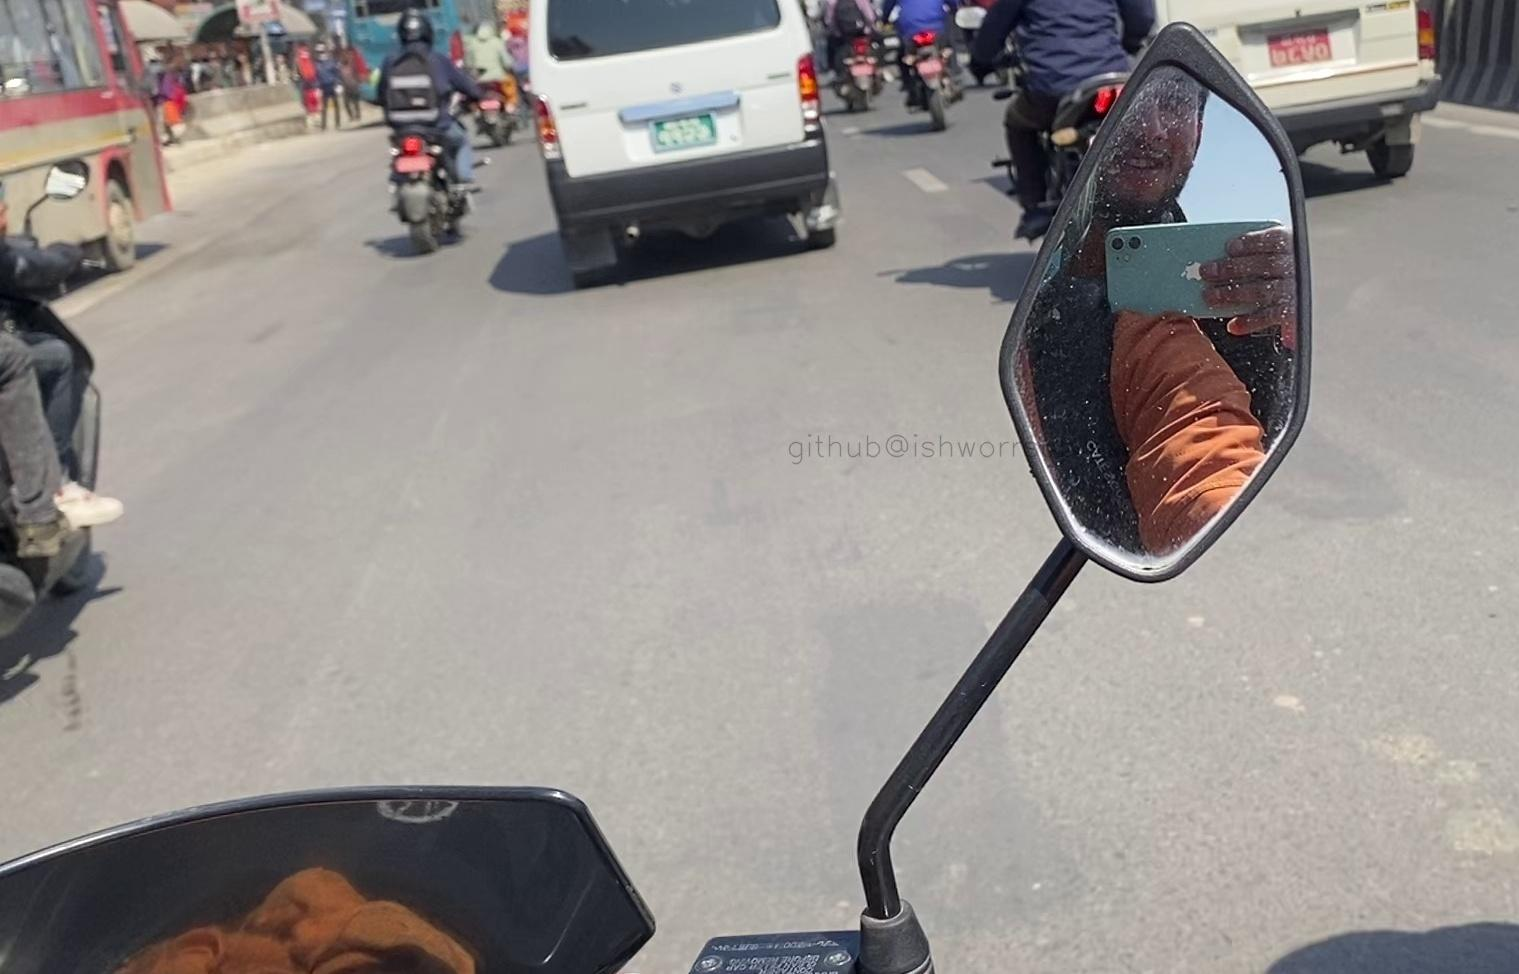license-plate: (635, 109, 727, 172)
